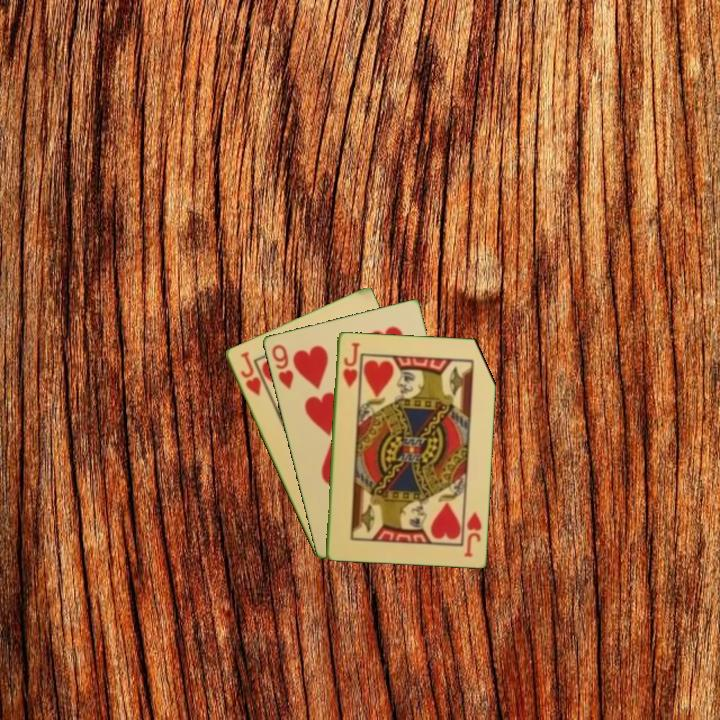9h: (268, 341, 296, 392)
Jh: (236, 348, 264, 399), (460, 508, 484, 559), (339, 339, 362, 390)
